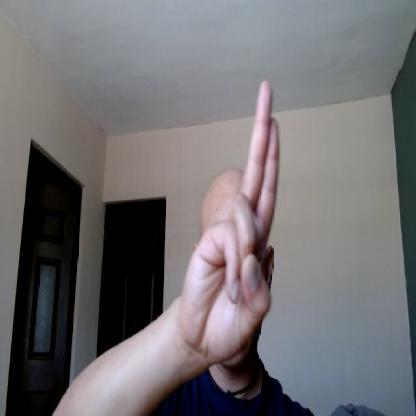U: (187, 80, 283, 366)
